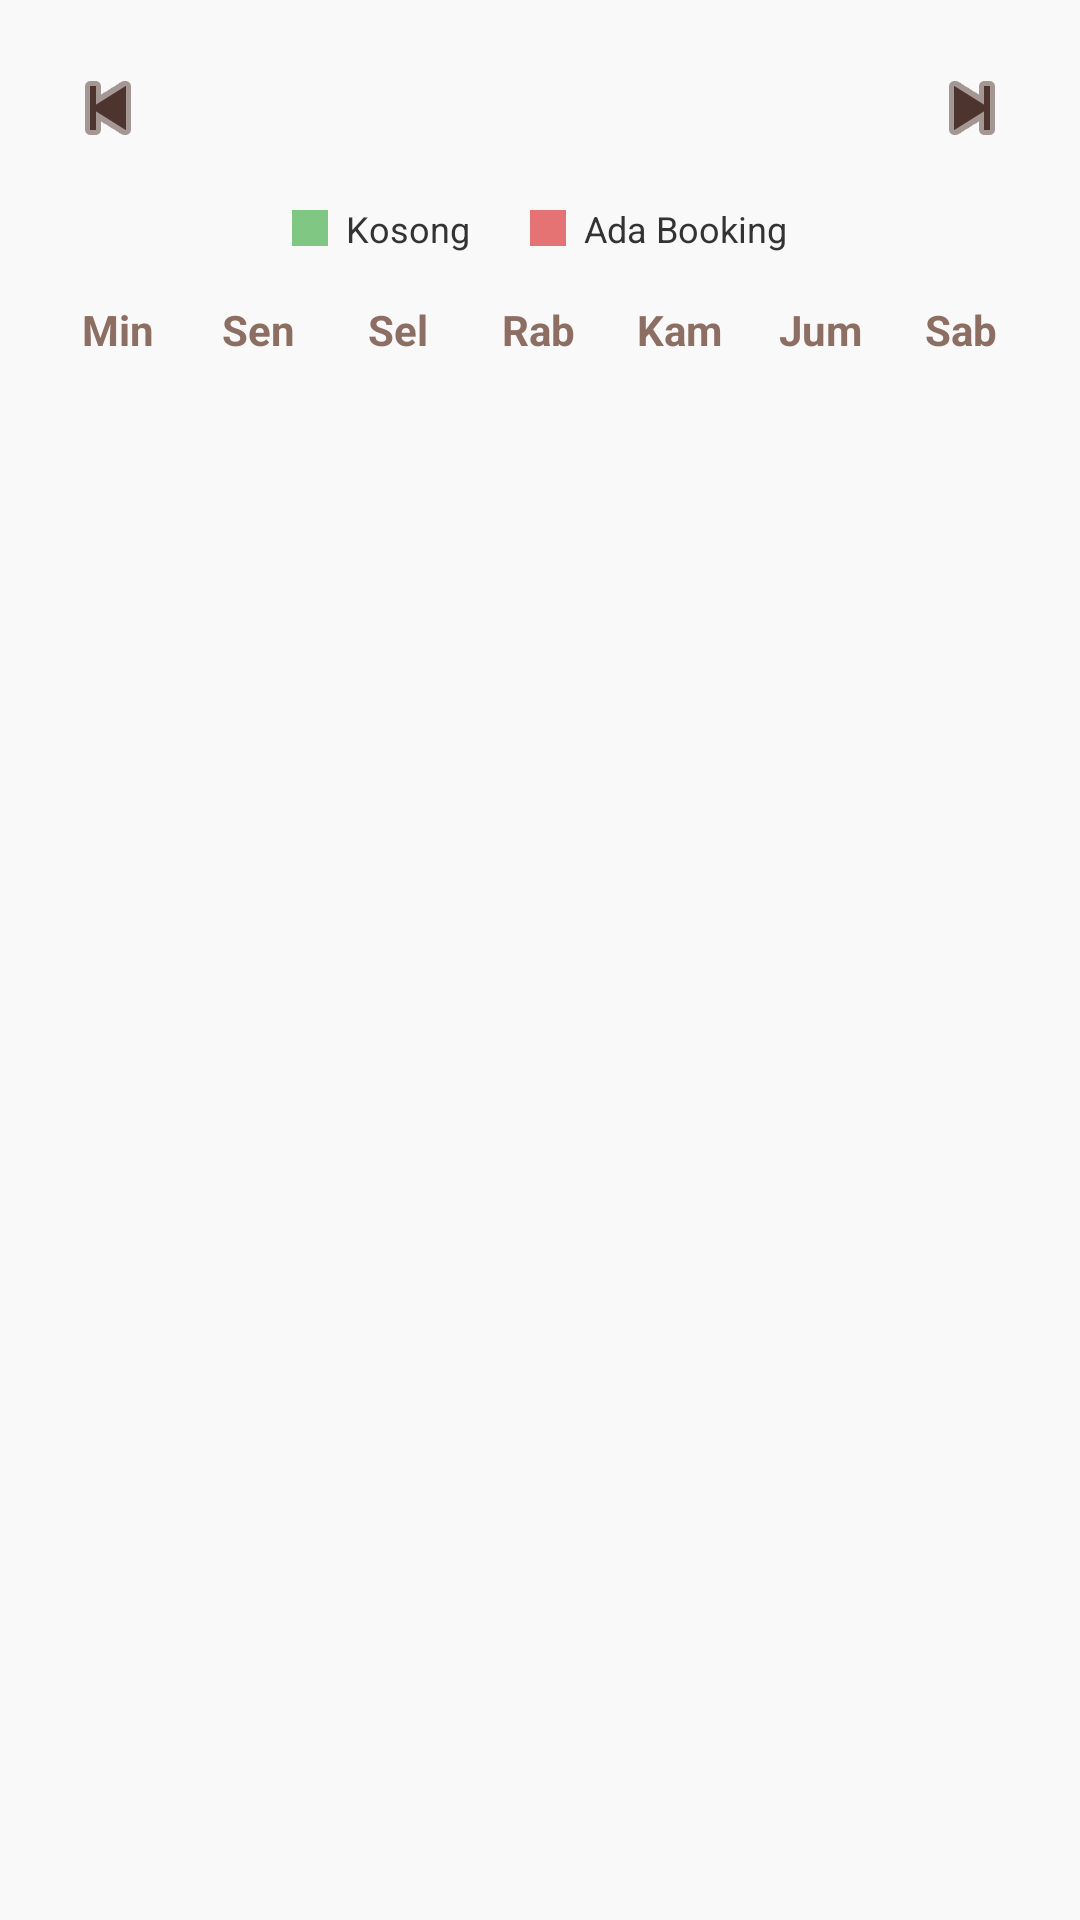

Screen size 1080x1920. Icon name, then its center in pixels as (x=x, y=y):
next: (x=972, y=108)
previous: (x=108, y=108)
